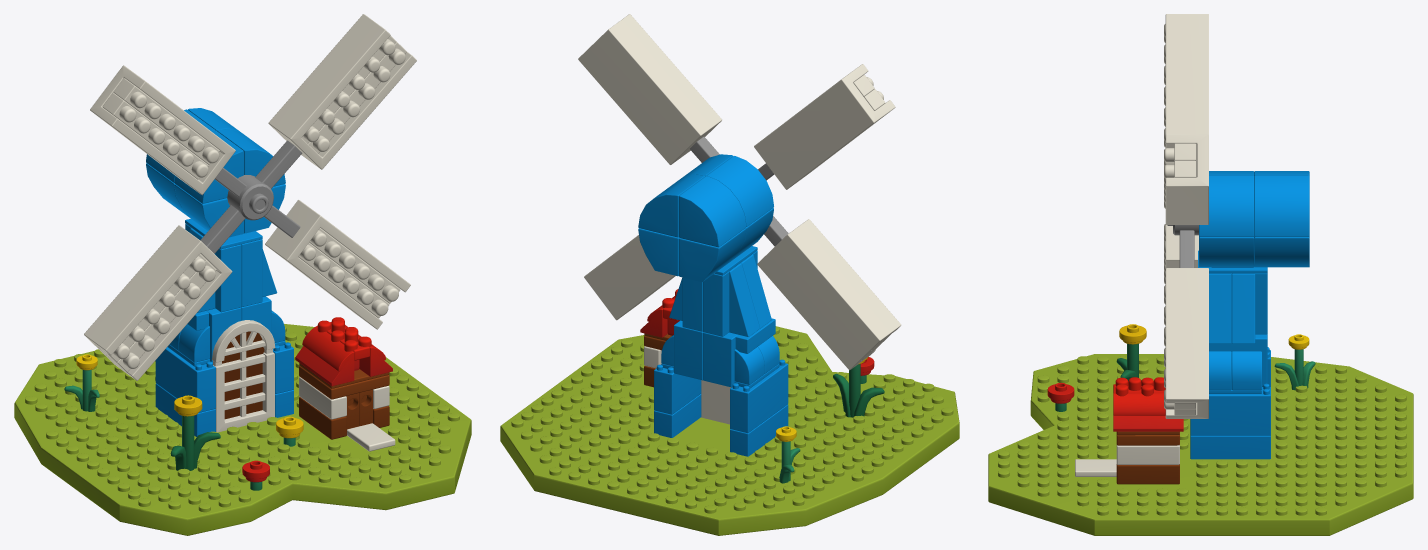
Rendered from HomeContent_1.fbx.
3 renders of one model, left to right at view 1: azimuth 30°, elevation 25°; view 2: azimuth 150°, elevation 25°; view 3: azimuth 270°, elevation 25°, orthographic. The views are drawn at different scales.
Visible parts, largest first — view 1: Ground, wing1, Body, wing2, House4, Top, Fler_4, Fler_6, Fler_5, Fler_2; view 2: Ground, wing1, Body, Top, wing2, House4, Fler_4, Fler_6; view 3: Ground, wing2, Body, Top, House4, wing1, Fler_6, Fler_4, Fler_5.
Boxes of the visible parts, x1=… form: Ground: x1=14, y1=324, x2=471, y2=535; wing1: x1=84, y1=14, x2=416, y2=380; Body: x1=155, y1=218, x2=293, y2=436; wing2: x1=90, y1=65, x2=410, y2=329; House4: x1=295, y1=317, x2=395, y2=451; Top: x1=146, y1=108, x2=285, y2=237; Fler_4: x1=170, y1=395, x2=220, y2=470; Fler_6: x1=64, y1=354, x2=99, y2=411; Fler_5: x1=242, y1=460, x2=269, y2=490; Fler_2: x1=276, y1=416, x2=303, y2=446; Ground: x1=500, y1=326, x2=959, y2=535; wing1: x1=578, y1=14, x2=901, y2=370; Body: x1=654, y1=246, x2=788, y2=456; Top: x1=638, y1=154, x2=773, y2=281; wing2: x1=584, y1=64, x2=895, y2=320; House4: x1=640, y1=289, x2=679, y2=387; Fler_4: x1=833, y1=357, x2=884, y2=417; Fler_6: x1=776, y1=426, x2=800, y2=483; Ground: x1=988, y1=354, x2=1413, y2=535; wing2: x1=1164, y1=14, x2=1208, y2=418; Body: x1=1190, y1=250, x2=1270, y2=459; Top: x1=1167, y1=171, x2=1309, y2=267; House4: x1=1075, y1=377, x2=1183, y2=484; wing1: x1=1164, y1=134, x2=1208, y2=284; Fler_6: x1=1274, y1=334, x2=1315, y2=390; Fler_4: x1=1116, y1=324, x2=1146, y2=380; Fler_5: x1=1047, y1=382, x2=1074, y2=411.
Bounding box in the file's own units: 23.74 × 25.7 × 25.65.
Materials: 1 (1 with a texture image).
